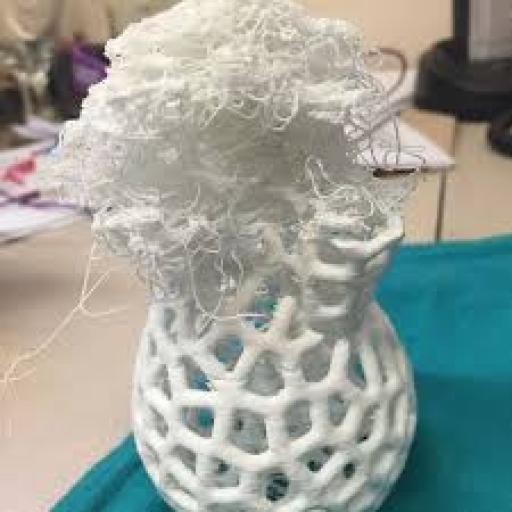spaghetti: (76, 0, 370, 377)
